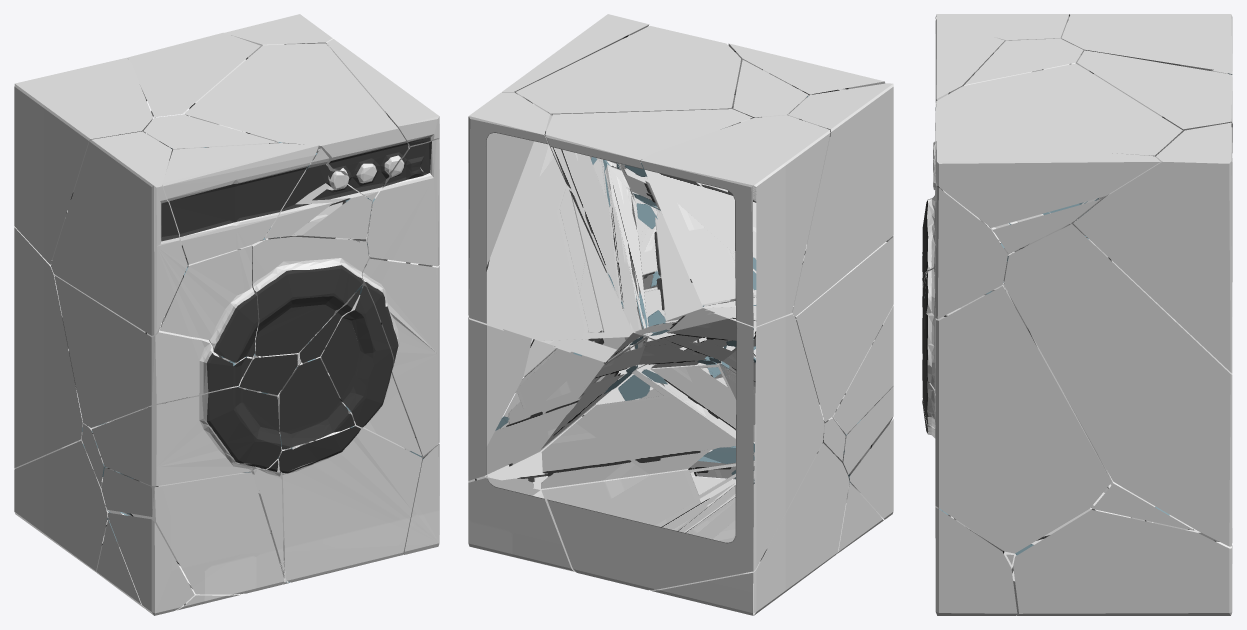
The model's file is Washing mashine Smashed.fbx.
3 renders of one model, left to right at view 1: azimuth 30°, elevation 25°; view 2: azimuth 150°, elevation 25°; view 3: azimuth 270°, elevation 25°, orthographic. The views are drawn at different scales.
Parts seen in each view (by area): view 1: washing_machine_001_cell.017, washing_machine_001_cell.030, washing_machine_001_cell.002, washing_machine_001_cell.020, washing_machine_001_cell.018, washing_machine_001_cell.022, washing_machine_001_cell.006, washing_machine_001_cell.033, washing_machine_001_cell.015, washing_machine_001_cell.004, washing_machine_001_cell.035, washing_machine_001_cell.005 (+15 smaller); view 2: washing_machine_001_cell.015, washing_machine_001_cell.008, washing_machine_001_cell.020, washing_machine_001_cell.003, washing_machine_001_cell.007, washing_machine_001_cell.017, washing_machine_001_cell.030, washing_machine_001_cell.026, washing_machine_001_cell.018, washing_machine_001_cell.024, washing_machine_001_cell.009, washing_machine_001_cell.006 (+9 smaller); view 3: washing_machine_001_cell.007, washing_machine_001_cell.035, washing_machine_001_cell.008, washing_machine_001_cell.024, washing_machine_001_cell.030, washing_machine_001_cell.021, washing_machine_001_cell.020, washing_machine_001_cell.003, washing_machine_001_cell.001, washing_machine_001_cell.019, washing_machine_001_cell.033, washing_machine_001_cell.028 (+4 smaller).
Part boxes in pixels (x1,y1,x2,y2): washing_machine_001_cell.017: [51, 131, 188, 335]; washing_machine_001_cell.030: [184, 43, 409, 206]; washing_machine_001_cell.002: [279, 424, 422, 582]; washing_machine_001_cell.020: [14, 57, 153, 264]; washing_machine_001_cell.018: [54, 266, 251, 427]; washing_machine_001_cell.022: [101, 467, 284, 594]; washing_machine_001_cell.006: [92, 387, 281, 486]; washing_machine_001_cell.033: [162, 143, 318, 264]; washing_machine_001_cell.015: [14, 227, 96, 468]; washing_machine_001_cell.004: [252, 236, 368, 356]; washing_machine_001_cell.035: [321, 256, 439, 456]; washing_machine_001_cell.005: [312, 285, 422, 456]; washing_machine_001_cell.015: [541, 309, 824, 590]; washing_machine_001_cell.008: [468, 92, 641, 362]; washing_machine_001_cell.020: [640, 115, 830, 326]; washing_machine_001_cell.003: [545, 109, 756, 335]; washing_machine_001_cell.007: [468, 157, 646, 480]; washing_machine_001_cell.017: [788, 83, 893, 316]; washing_machine_001_cell.030: [516, 26, 740, 163]; washing_machine_001_cell.026: [650, 443, 849, 615]; washing_machine_001_cell.018: [753, 236, 893, 422]; washing_machine_001_cell.024: [468, 363, 754, 571]; washing_machine_001_cell.009: [487, 289, 755, 488]; washing_machine_001_cell.006: [832, 305, 893, 434]; washing_machine_001_cell.007: [1003, 217, 1232, 546]; washing_machine_001_cell.035: [924, 267, 1111, 553]; washing_machine_001_cell.008: [1073, 122, 1232, 372]; washing_machine_001_cell.024: [948, 484, 1232, 615]; washing_machine_001_cell.030: [933, 63, 1182, 254]; washing_machine_001_cell.021: [935, 140, 1160, 227]; washing_machine_001_cell.020: [1061, 14, 1232, 74]; washing_machine_001_cell.003: [1071, 50, 1232, 237]; washing_machine_001_cell.001: [935, 507, 1017, 615]; washing_machine_001_cell.019: [933, 176, 1007, 319]; washing_machine_001_cell.033: [935, 18, 1004, 107]; washing_machine_001_cell.028: [964, 38, 1083, 85].
Bounding box in the file's own units: 59.84 × 85.58 × 52.85.
1 material, 1 textured.
